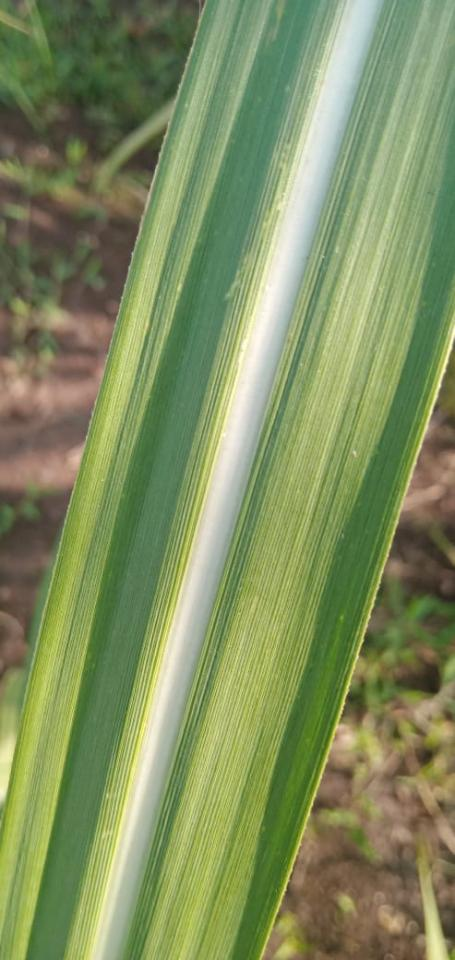Healthy: (0, 0, 349, 959), (126, 0, 454, 959)
